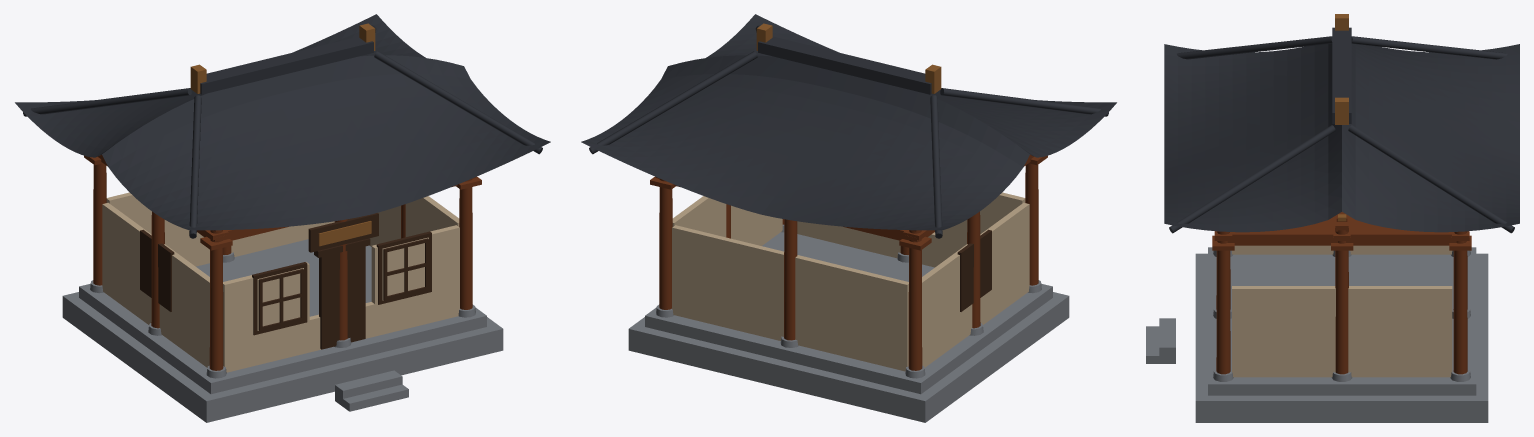
File: oriental_house.glb
3 renders of one model, left to right at view 1: azimuth 30°, elevation 25°; view 2: azimuth 150°, elevation 25°; view 3: azimuth 270°, elevation 25°, orthographic.
Visible parts, largest first — view 1: oriental_house; view 2: oriental_house; view 3: oriental_house.
Boxes of the visible parts, <box> form: oriental_house: <box>15,14,550,422</box>; oriental_house: <box>581,14,1116,422</box>; oriental_house: <box>1146,14,1519,422</box>.
Bounding box in the file's own units: 6.1 × 4.61 × 5.36.
